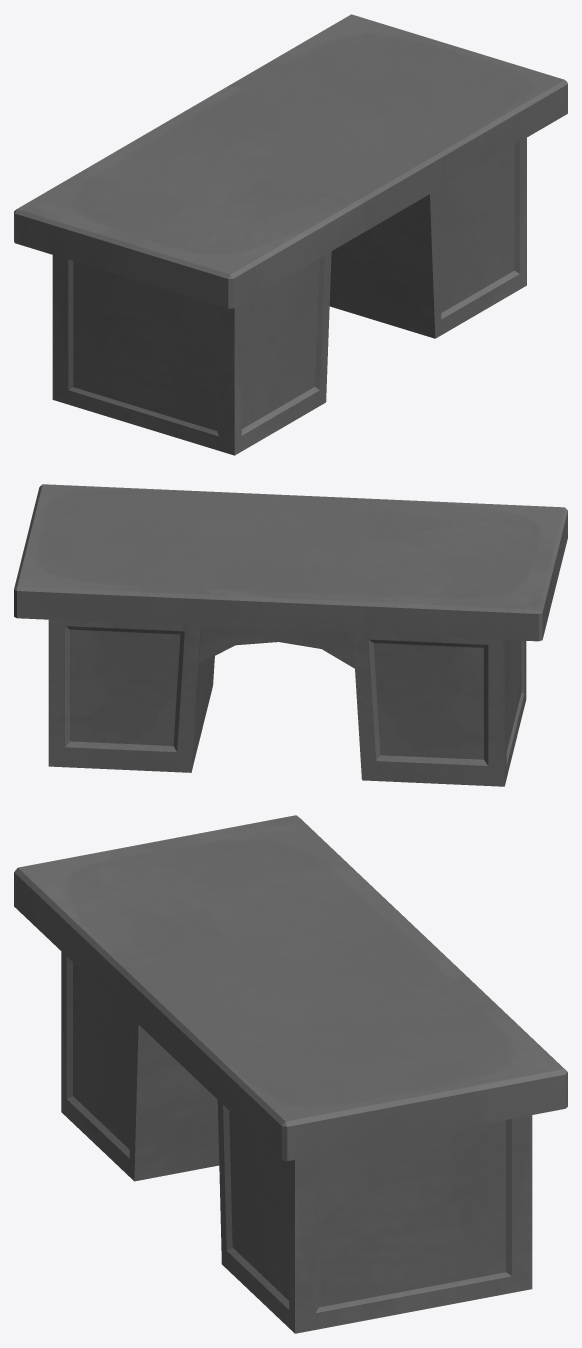
Rendered from Desk.fbx.
The picture shows the model from 3 angles, top to bottom: view 1: azimuth 30°, elevation 25°; view 2: azimuth 150°, elevation 25°; view 3: azimuth 270°, elevation 25°; orthographic projection. The views are drawn at different scales.
Parts seen in each view (by area): view 1: desk1, desk4, desk2; view 2: desk1, desk4, desk2, desk3; view 3: desk1, desk2, desk4.
Boxes of the visible parts, <box> form: desk1: <box>14,14,567,308</box>; desk4: <box>52,251,331,455</box>; desk2: <box>329,138,526,338</box>; desk1: <box>14,484,567,641</box>; desk4: <box>352,633,526,786</box>; desk2: <box>48,619,214,772</box>; desk3: <box>199,626,354,668</box>; desk1: <box>14,815,567,1161</box>; desk2: <box>217,1100,532,1333</box>; desk4: <box>61,951,219,1181</box>.
Bounding box in the file's own units: 6.44 × 2.24 × 4.87.
